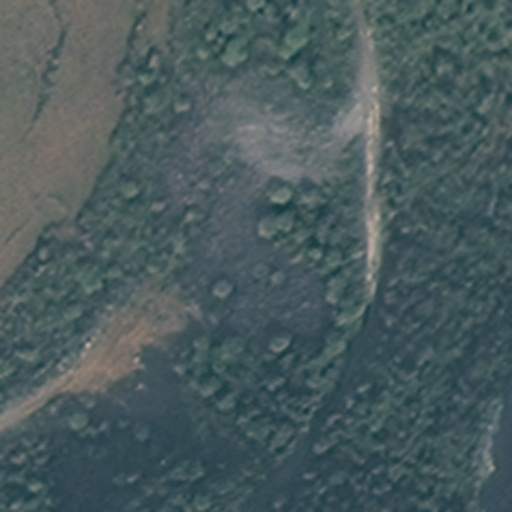landslide: (6, 275, 195, 430)
